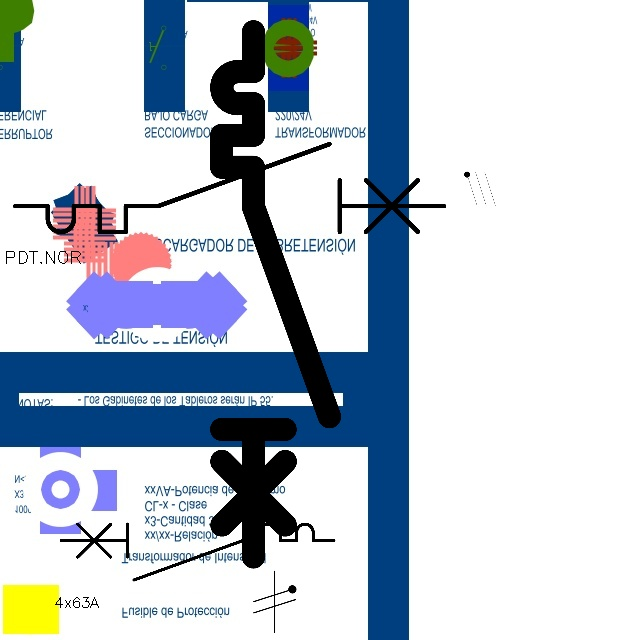interruptor_termomagnetico: (208, 18, 343, 570), (4, 133, 455, 243), (54, 517, 341, 587)
